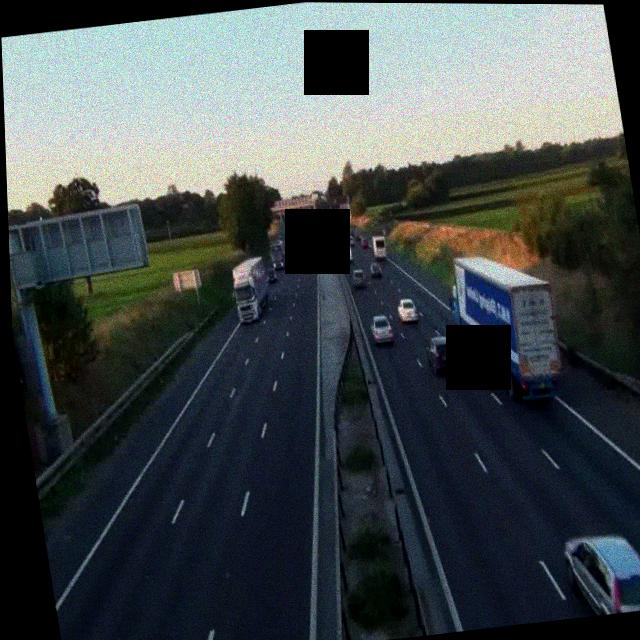car: (561, 529, 640, 619), (424, 332, 459, 374), (369, 314, 395, 344), (395, 296, 419, 323), (351, 267, 366, 286), (368, 259, 383, 276), (273, 256, 286, 271), (302, 248, 314, 263), (360, 237, 370, 250), (305, 237, 313, 249)
truck: (443, 246, 568, 407), (229, 256, 271, 323), (339, 239, 354, 262), (371, 234, 386, 257)
